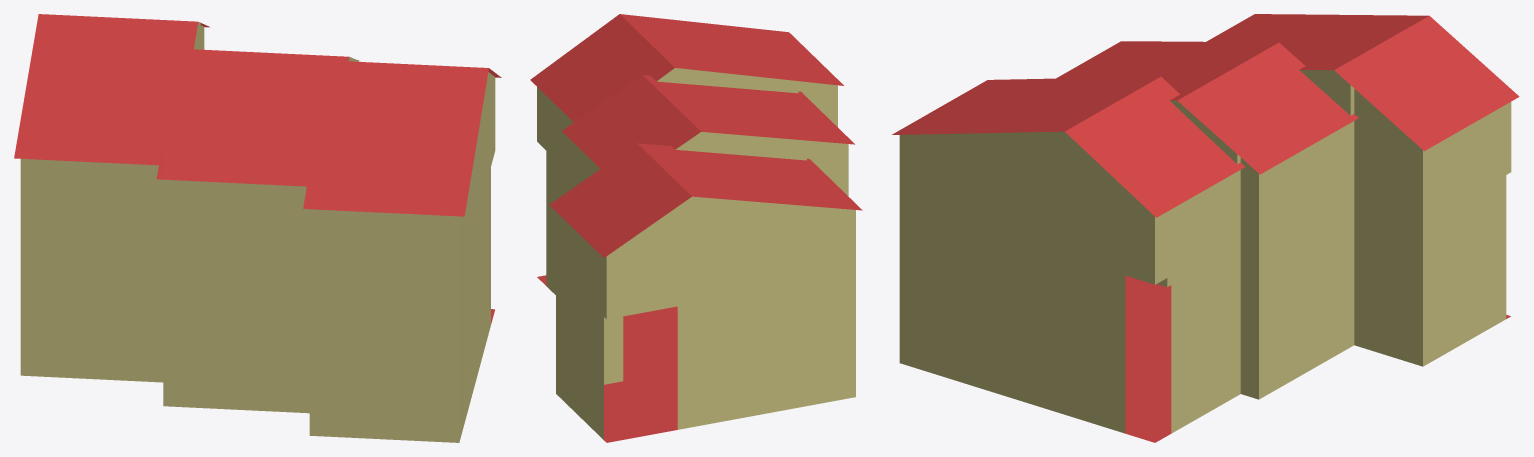
3 views of the same model, side by side, from view 1: azimuth 30°, elevation 25°; view 2: azimuth 150°, elevation 25°; view 3: azimuth 270°, elevation 25° (orthographic). The views are drawn at different scales.
Bounding box in the file's own units: 21.08 × 26.22 × 13.18.
